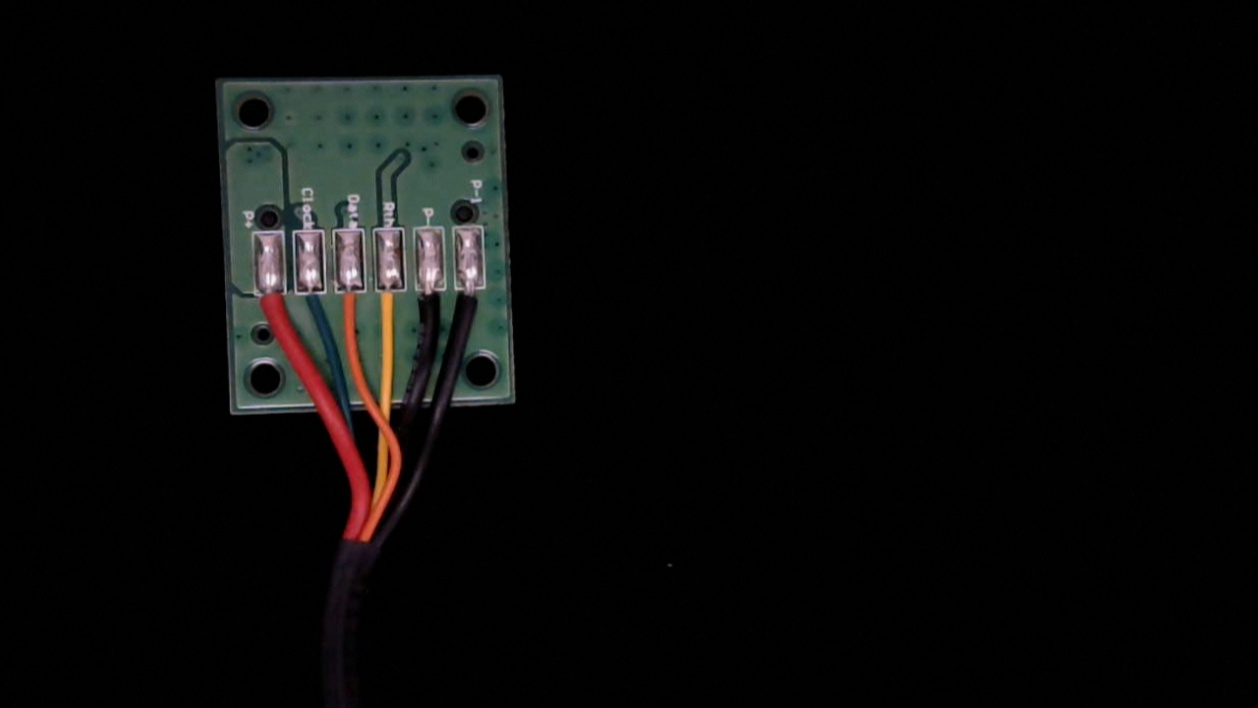Black: (414, 272, 445, 340)
Black1: (455, 270, 489, 337)
Green: (294, 274, 327, 336)
Orange: (336, 273, 366, 331)
Red: (254, 276, 286, 338)
Yellow: (375, 271, 405, 337)
